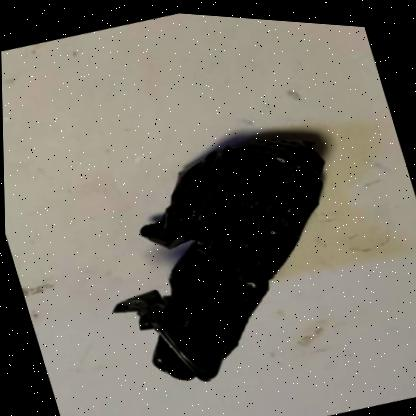Plastic: (112, 135, 323, 377)
